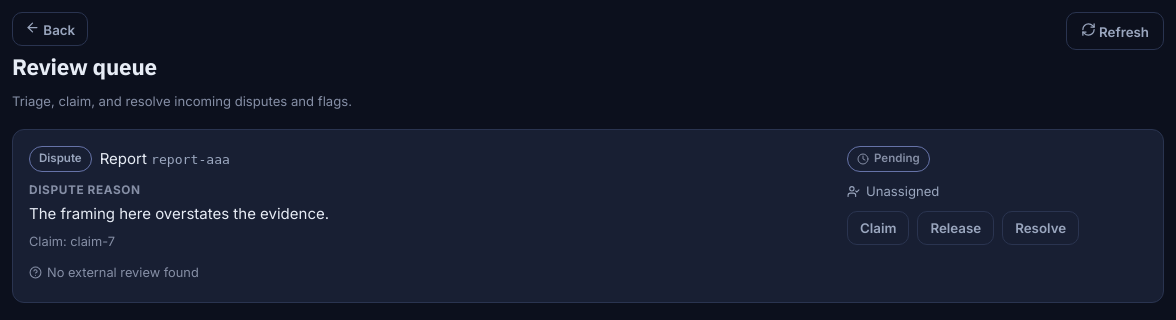
Scenario: ReviewerConsole › updates status and assignee when a claim succeeds
Expected: the text "Pending" is shown, [847, 146, 930, 172]
Expected: the text "Unassigned" is shown, [847, 183, 939, 199]
Click the button with aria-label "claim review item for report report-aaa".
click(878, 228)  # box [847, 211, 910, 245]
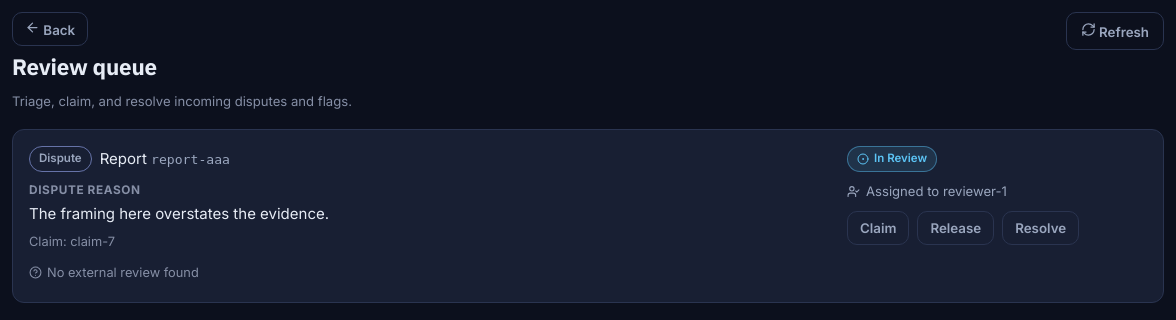
Now the text "In review" is shown, box [847, 146, 937, 172]
Now the text "Assigned to reviewer-1" is shown, box [847, 183, 1007, 199]
Now the text "Pending" is gone
